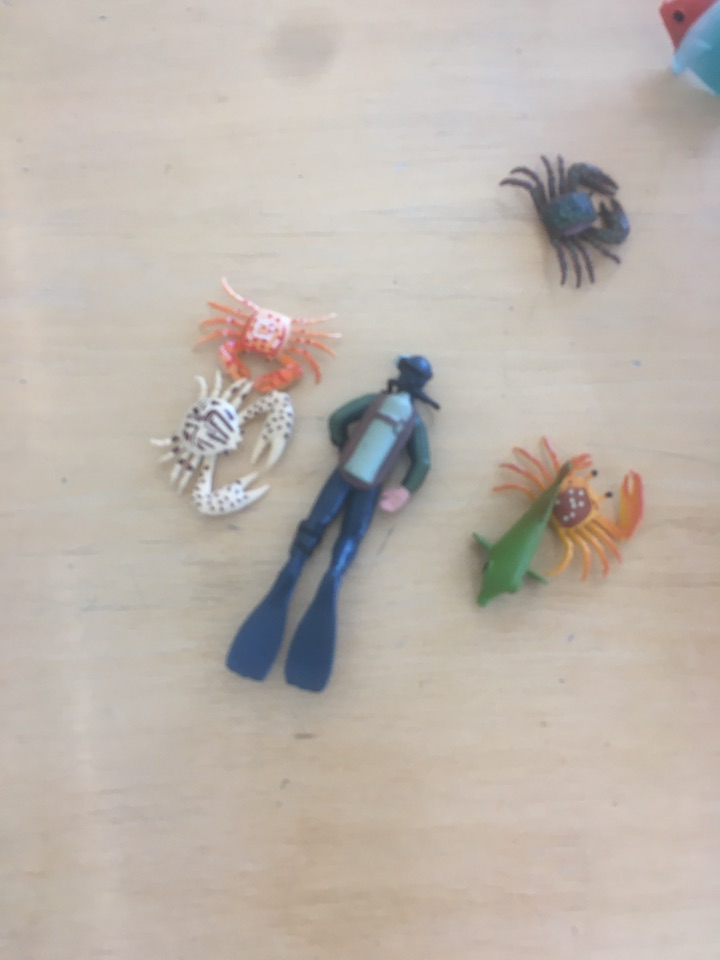crab: (492, 434, 648, 588), (146, 375, 300, 524), (493, 146, 636, 290), (185, 274, 347, 400)
diver: (215, 351, 443, 699)
fish: (466, 459, 581, 611), (656, 1, 720, 104)
